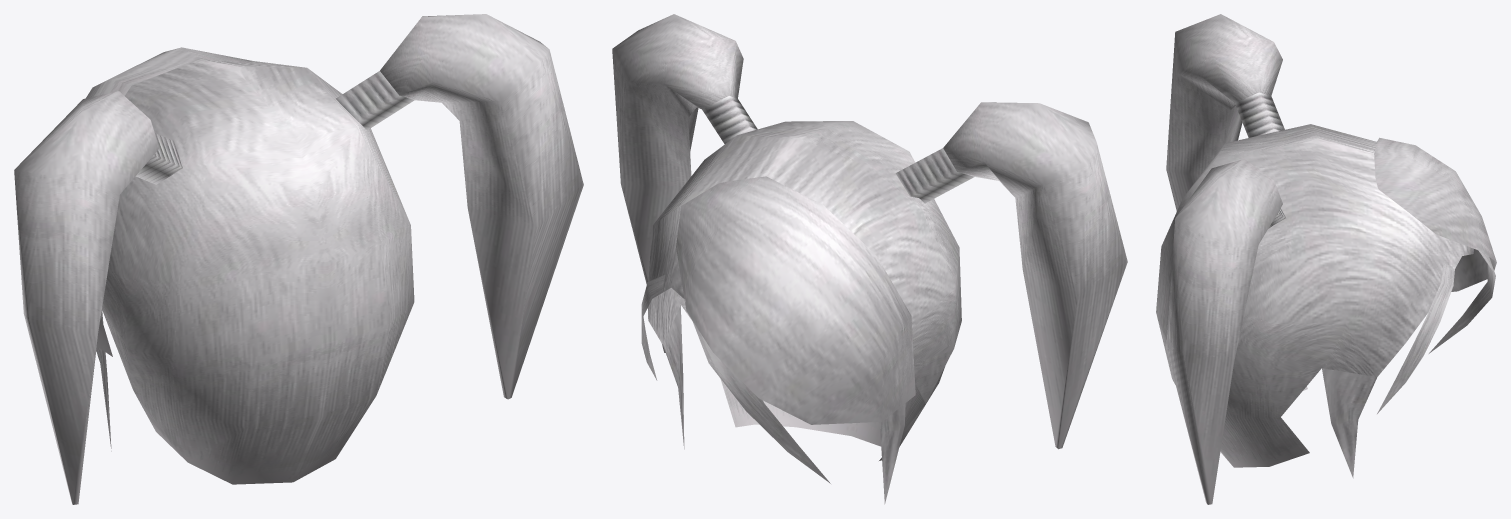
Rendered from Mage Female Hair 25.glb.
3 renders of one model, left to right at view 1: azimuth 30°, elevation 25°; view 2: azimuth 150°, elevation 25°; view 3: azimuth 270°, elevation 25°, orthographic. The views are drawn at different scales.
Visible parts, largest first — view 1: 法师女头发25_0; view 2: 法师女头发25_0; view 3: 法师女头发25_0.
Part boxes in pixels (x1,y1,x2,y2): 法师女头发25_0: (14,14,583,504); 法师女头发25_0: (612,14,1127,504); 法师女头发25_0: (1156,14,1496,504).
Bounding box in the file's own units: 0.297 × 0.2149 × 0.1893.
Materials: 1 (1 with a texture image).
